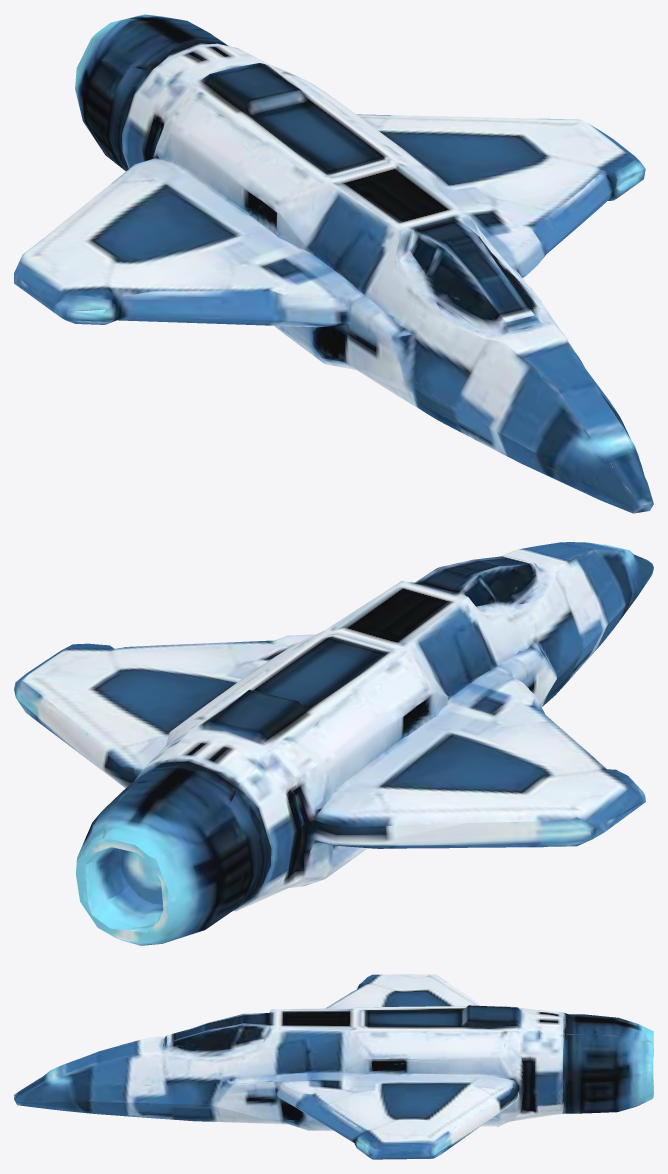
Rendered from enemy-basic-s5.glb.
3 views of the same model, one above another, from view 1: azimuth 30°, elevation 25°; view 2: azimuth 150°, elevation 25°; view 3: azimuth 270°, elevation 25° (orthographic). The views are drawn at different scales.
Visible parts, largest first — view 1: 2eeb1933-a6ca-4bd0-a515-30dd85c03f9c_texturing.obj; view 2: 2eeb1933-a6ca-4bd0-a515-30dd85c03f9c_texturing.obj; view 3: 2eeb1933-a6ca-4bd0-a515-30dd85c03f9c_texturing.obj.
Boxes of the visible parts, x1,y1,x2,y2 form: 2eeb1933-a6ca-4bd0-a515-30dd85c03f9c_texturing.obj: (14,14,653,513); 2eeb1933-a6ca-4bd0-a515-30dd85c03f9c_texturing.obj: (14,542,653,945); 2eeb1933-a6ca-4bd0-a515-30dd85c03f9c_texturing.obj: (14,974,653,1159).
Bounding box in the file's own units: 1.3 × 0.3399 × 1.99.
Materials: 1 (1 with a texture image).
